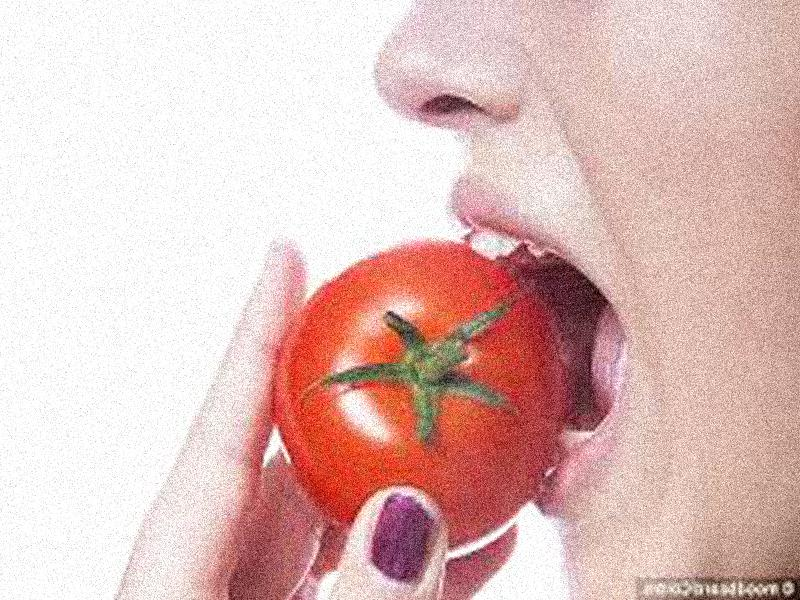Tomato: (272, 240, 562, 558)
